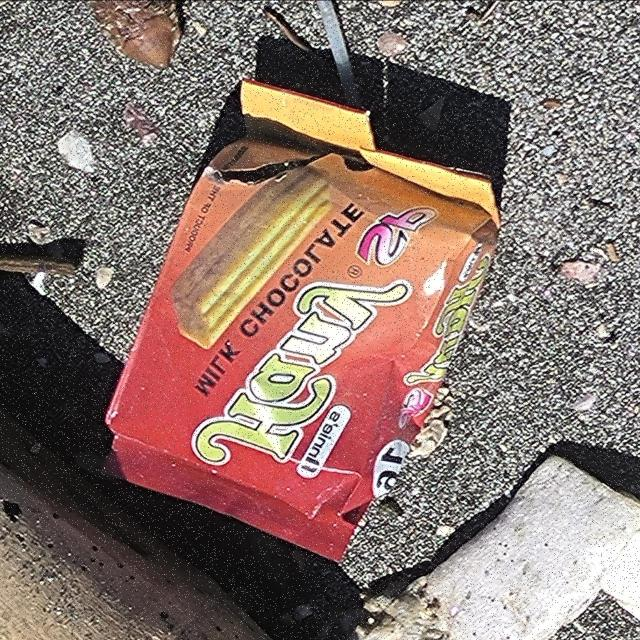plastic_waste: (95, 76, 503, 566)
